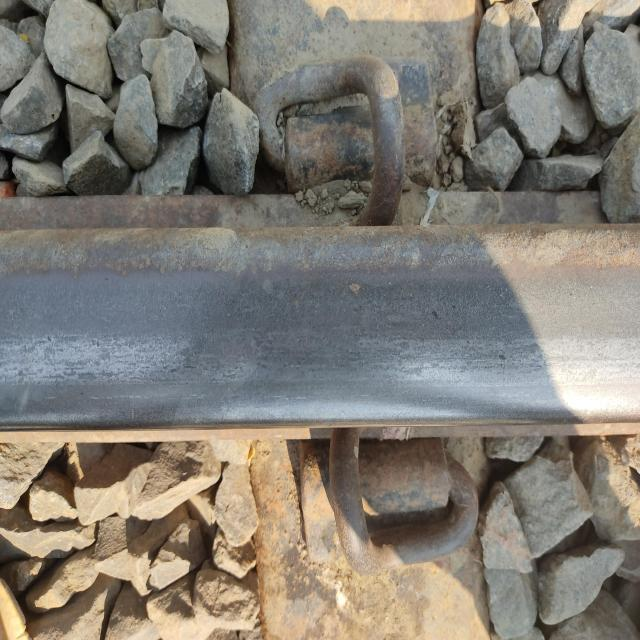squats_high: (348, 281, 362, 297), (433, 308, 443, 321), (499, 351, 507, 363)
